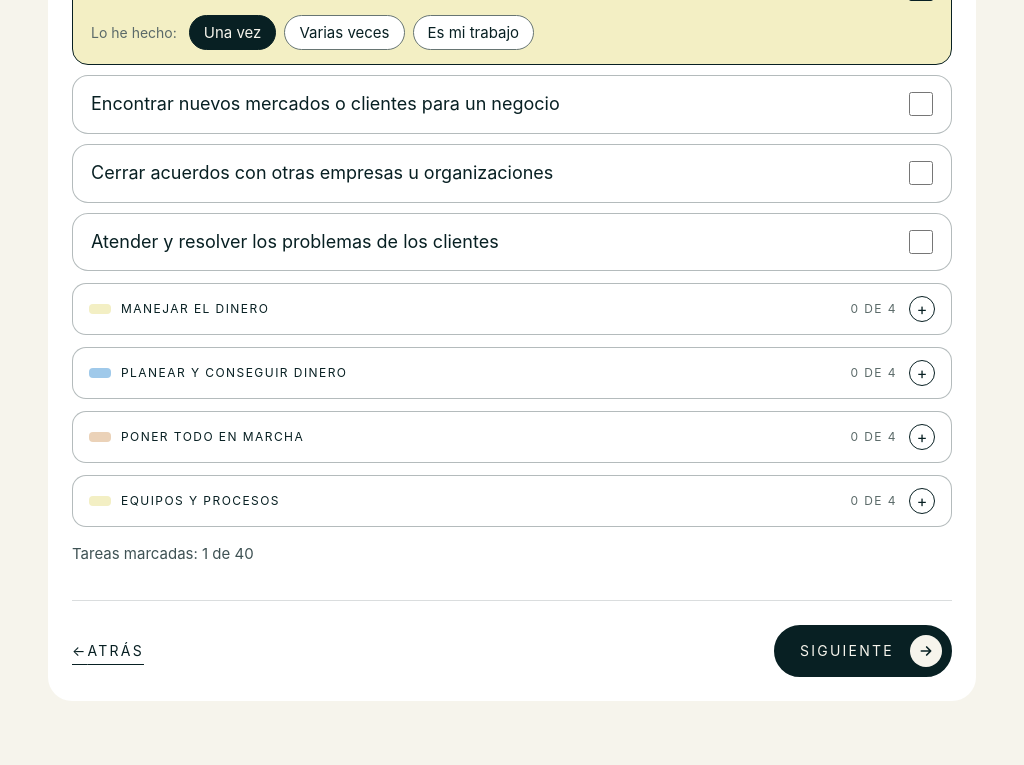
TareasView: guardar › si la acción se rompe, también avisa con el mensaje de fallo
The width and height of the screenshot is (1024, 765).
(page scrolled)
Click the button "Siguiente" at (863, 652), box left=774, top=626, right=952, bottom=678
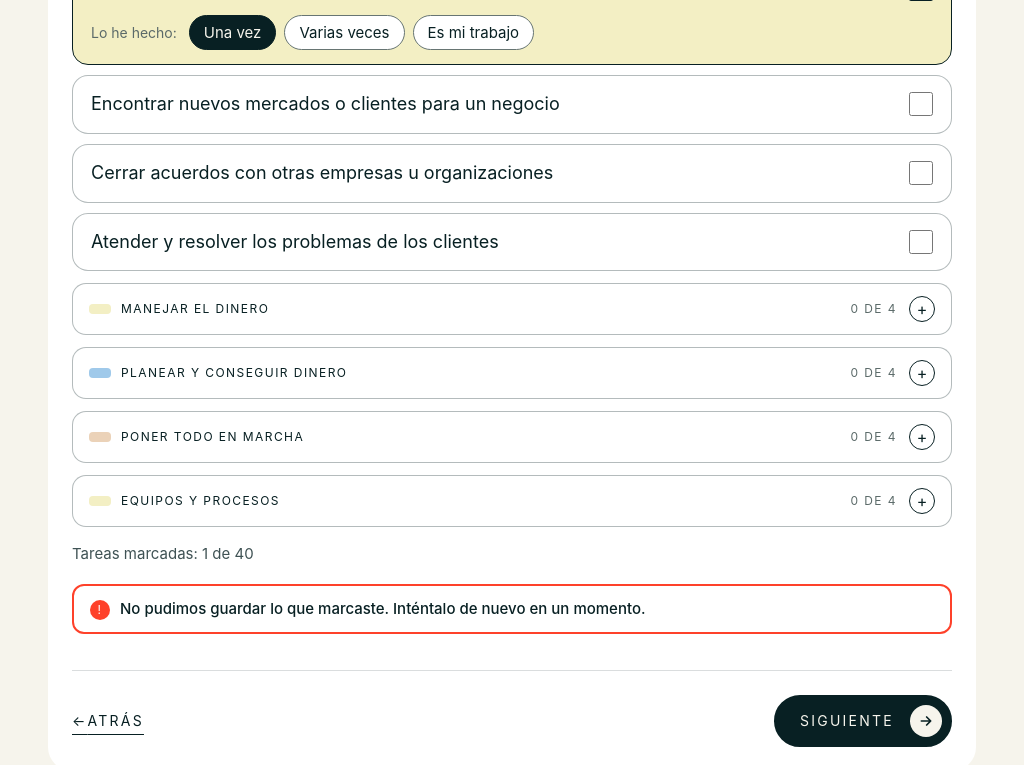
Now the message shows "No pudimos guardar lo que marcaste. Inténtalo de nuevo en un momento.", box left=120, top=600, right=646, bottom=618
